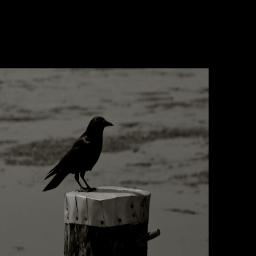Crow: (41, 113, 115, 196)
